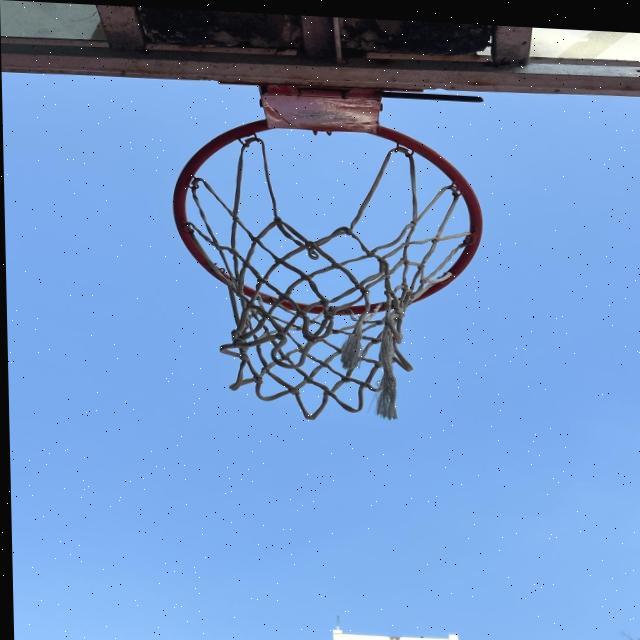hoop: (142, 74, 494, 425)
